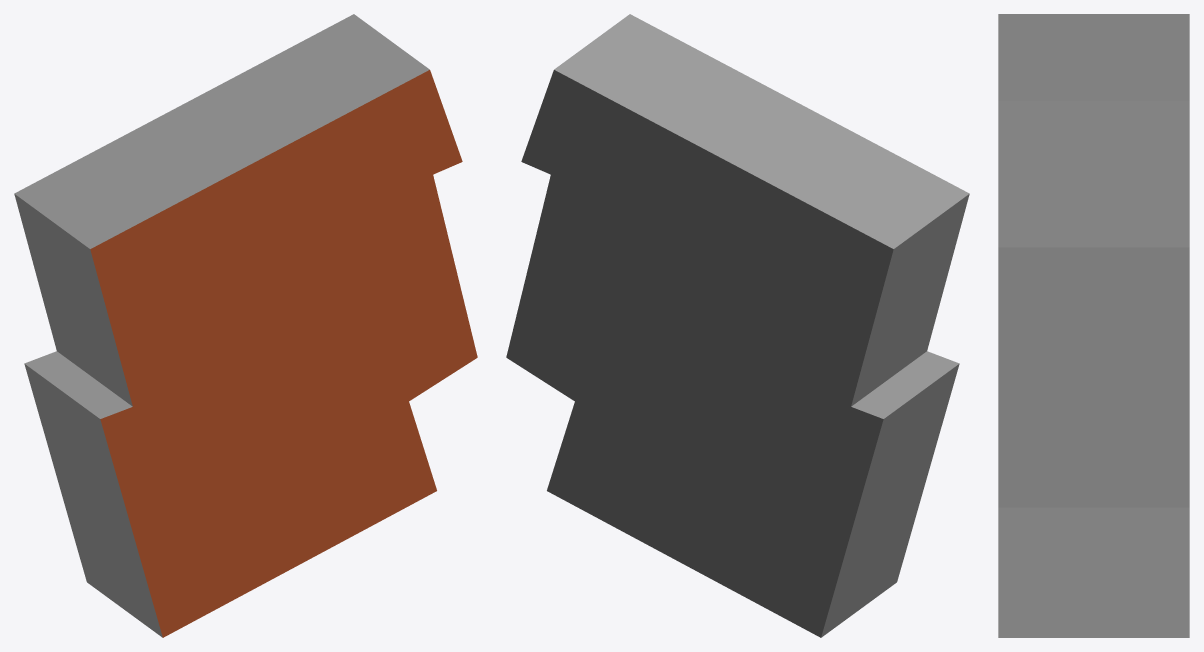
The model's file is construction_5078_assumed_A_Casa_h6m.obj.
The picture shows the model from 3 angles, left to right: view 1: azimuth 30°, elevation 25°; view 2: azimuth 150°, elevation 25°; view 3: azimuth 270°, elevation 25°; orthographic projection. The views are drawn at different scales.
Parts seen in each view (by area): view 1: construction_5078_assumed_A_Casa; view 2: construction_5078_assumed_A_Casa; view 3: construction_5078_assumed_A_Casa.
Boxes of the visible parts, x1=… form: construction_5078_assumed_A_Casa: x1=14, y1=14, x2=477, y2=637; construction_5078_assumed_A_Casa: x1=506, y1=14, x2=969, y2=637; construction_5078_assumed_A_Casa: x1=998, y1=14, x2=1189, y2=637.
Size of the model in its own units: 17.65 by 21.9 by 6.
